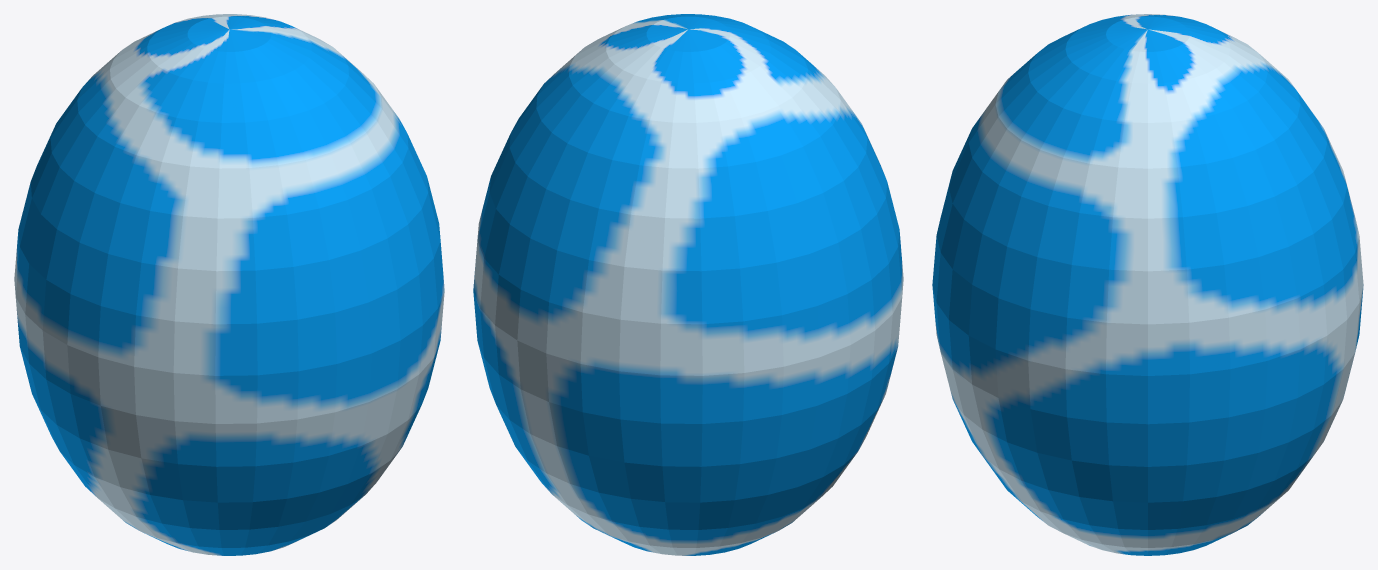
File: waterBall.fbx
3 views of the same model, side by side, from view 1: azimuth 30°, elevation 25°; view 2: azimuth 150°, elevation 25°; view 3: azimuth 270°, elevation 25° (orthographic).
Parts seen in each view (by area): view 1: Sphere; view 2: Sphere; view 3: Sphere.
Boxes of the visible parts, x1,y1,x2,y2 form: Sphere: [14, 14, 444, 555]; Sphere: [473, 14, 903, 555]; Sphere: [932, 14, 1363, 555].
Bounding box in the file's own units: 200 × 262 × 200.
1 material, 1 textured.
